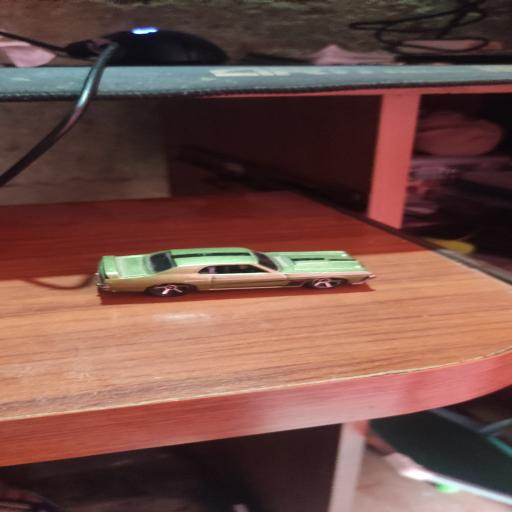Carrito: (96, 247, 374, 297)
